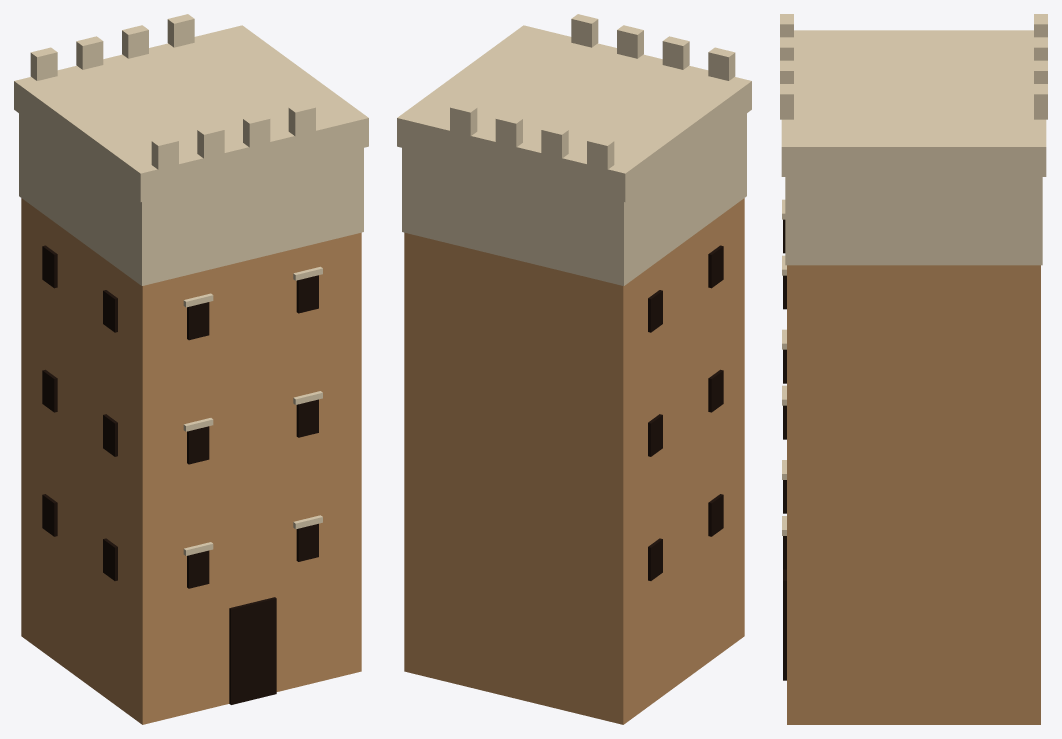
File: tower_house_a.glb
3 views of the same model, side by side, from view 1: azimuth 30°, elevation 25°; view 2: azimuth 150°, elevation 25°; view 3: azimuth 270°, elevation 25° (orthographic). The views are drawn at different scales.
Parts seen in each view (by area): view 1: TowerHouse; view 2: TowerHouse; view 3: TowerHouse.
Boxes of the visible parts, x1,y1,x2,y2 form: TowerHouse: (14, 14, 368, 724); TowerHouse: (397, 14, 751, 724); TowerHouse: (780, 14, 1047, 724).
Size of the model in its own units: 5 by 12.1 by 4.85.
